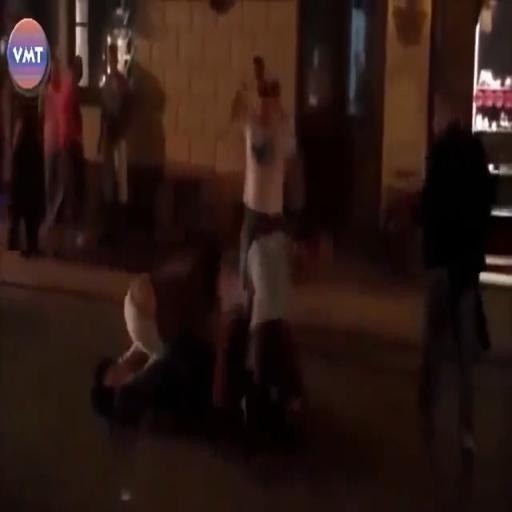violencia: (87, 183, 316, 473)
